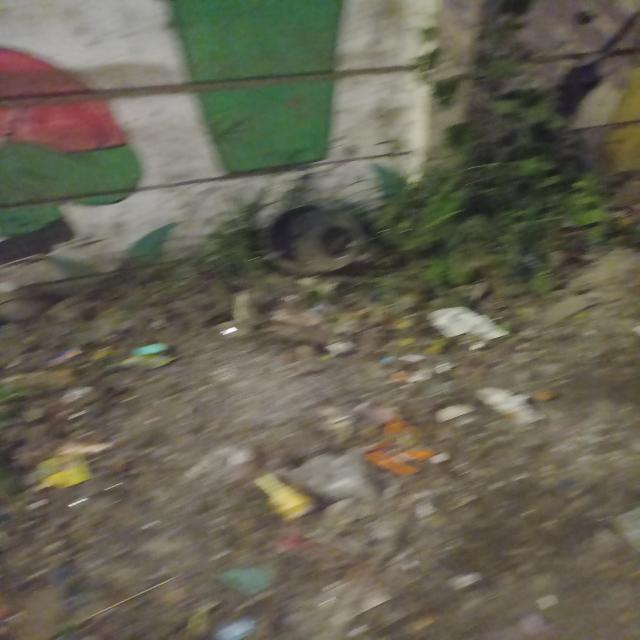garbage: (7, 260, 584, 640)
